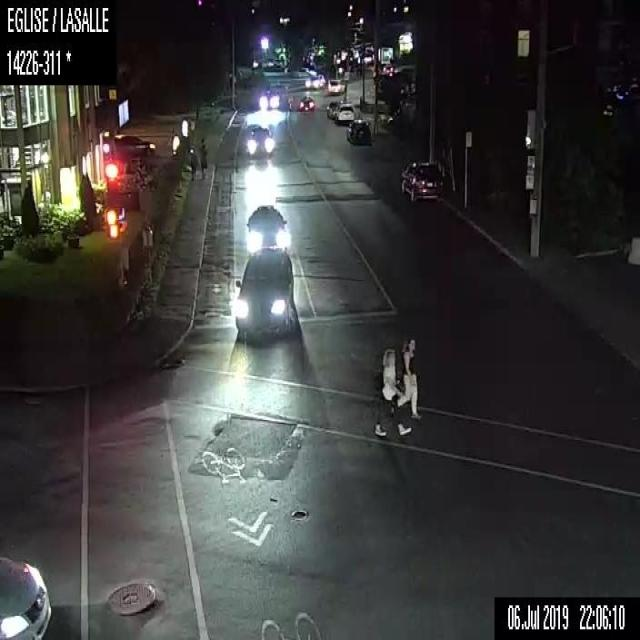pedestrian: (373, 343, 409, 436), (396, 334, 424, 422), (198, 136, 208, 180), (188, 141, 198, 181)
vehicle: (232, 242, 294, 336), (0, 554, 52, 638), (245, 204, 291, 252), (398, 158, 446, 202), (116, 131, 156, 158), (244, 123, 272, 160), (259, 82, 290, 110), (345, 116, 371, 146), (294, 93, 314, 115), (334, 102, 356, 121), (260, 56, 285, 72), (326, 78, 345, 97), (304, 74, 324, 88), (326, 100, 340, 119)
